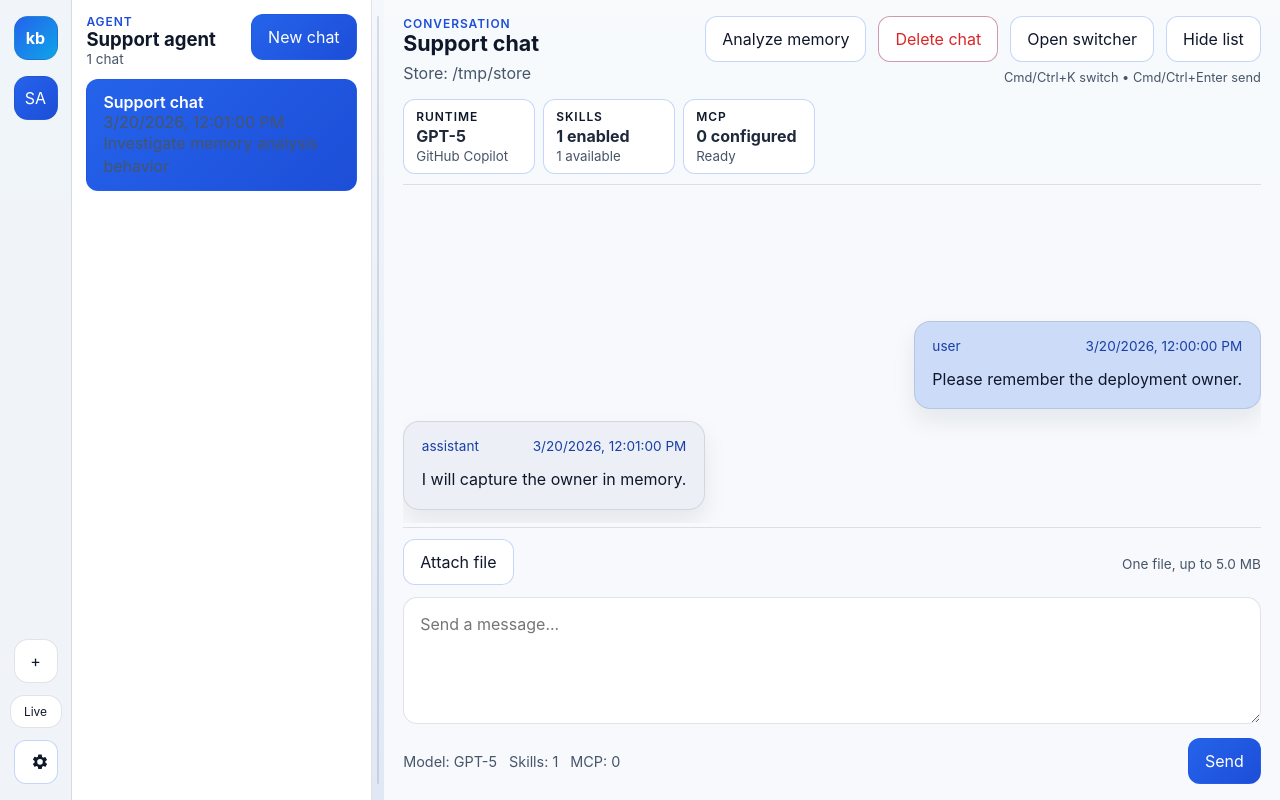
App memory analysis › opens the memory analysis modal after the run completes
The width and height of the screenshot is (1280, 800).
Click the button "Analyze memory" at [786, 39], box top-left (705, 16), bottom-right (866, 62)
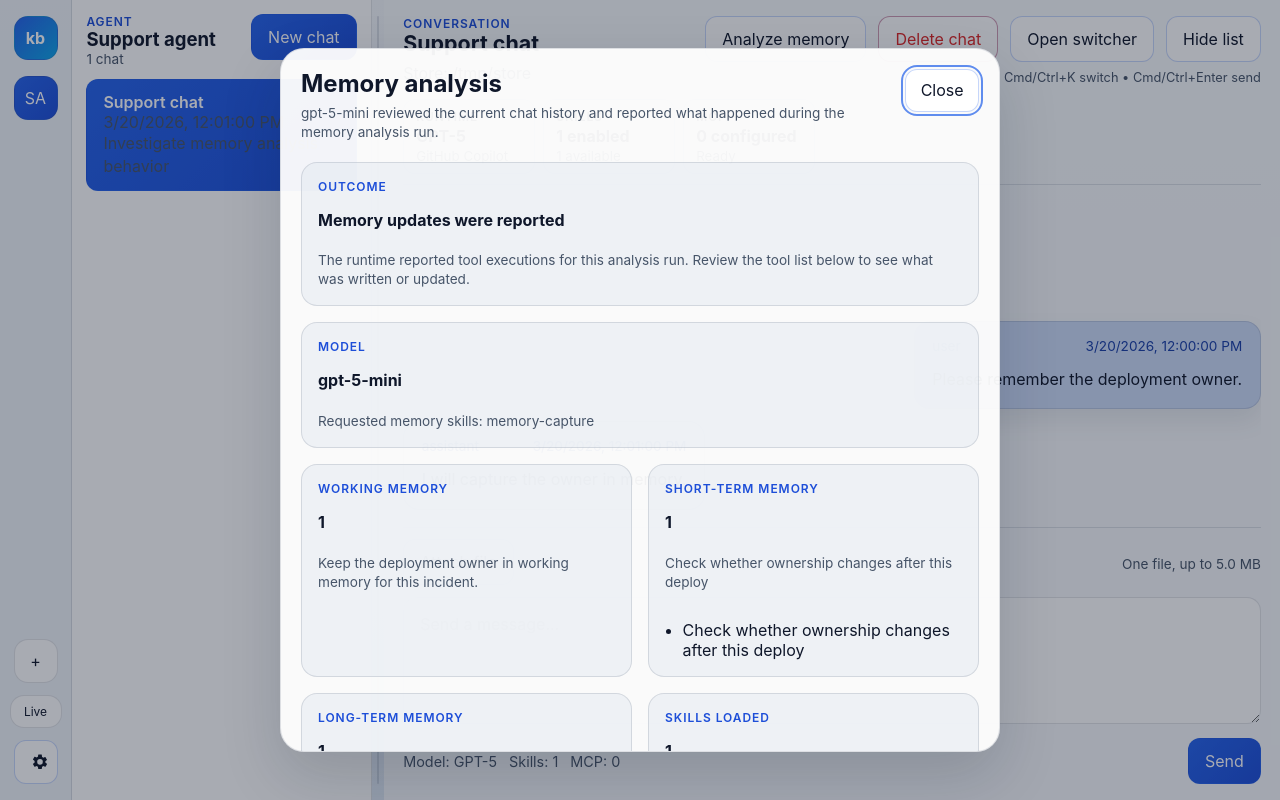
Expected: the text "Analyzing memory and waiting for the runtime to report what changed..." is shown, top-left (301, 162), bottom-right (979, 306)
Expected: the dialog "Memory analysis" is shown, top-left (280, 48), bottom-right (1000, 752)
Expected: the text "Memory updates were reported" is shown, top-left (318, 210), bottom-right (564, 230)
